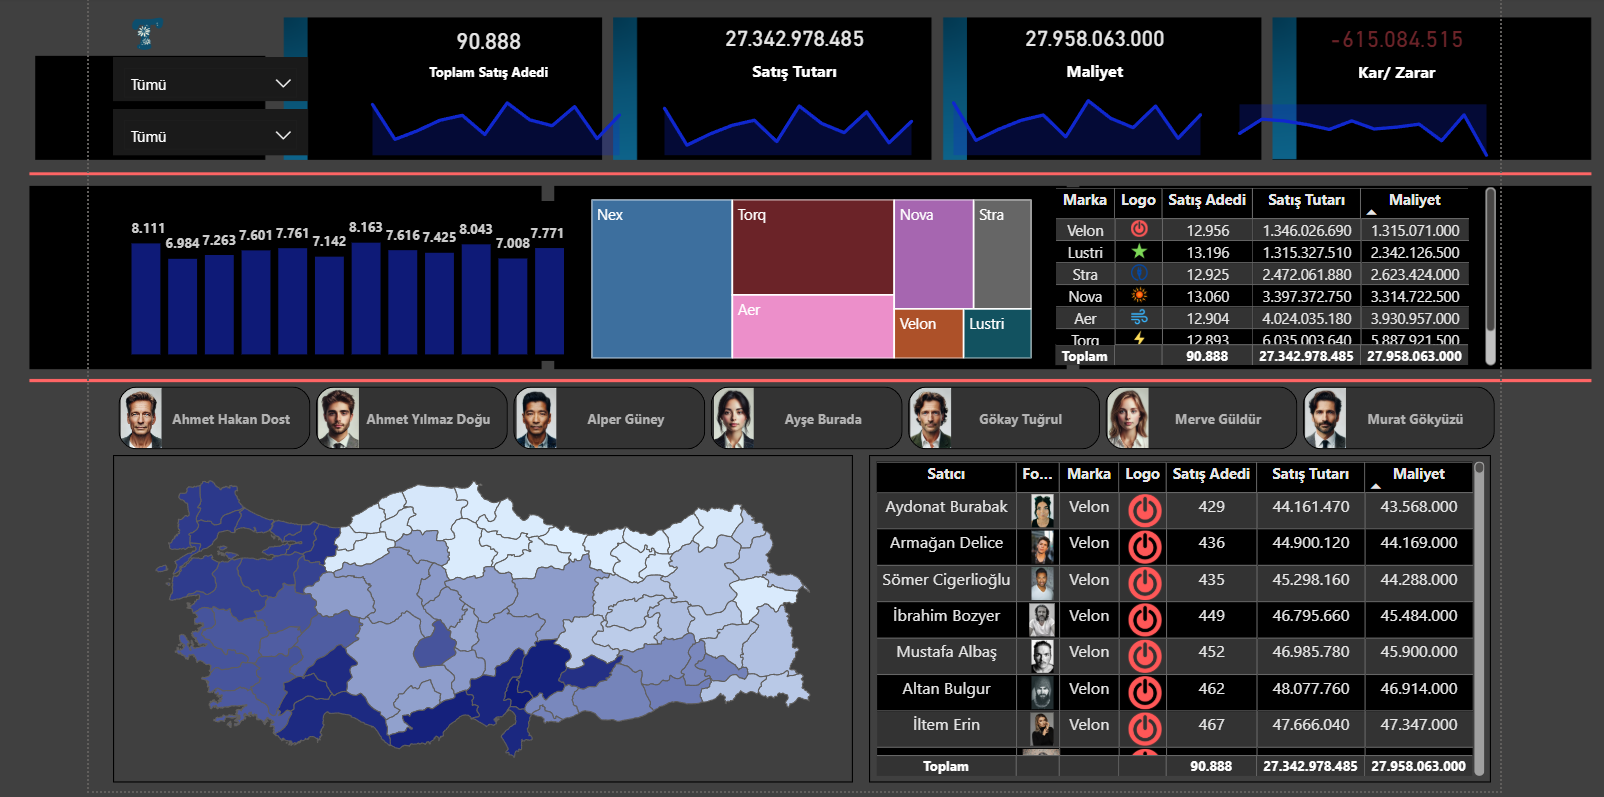

The page's visual inventory and layout, read from the dashboard file:
{"tool":"powerbi","page":{"name":"1. sayfa","canvas":[1280,720],"ordinal":0},"visuals":[{"type":"slicer","fields":{"Values":["Tarih_Tablosu.Date.Varyasyon.Tarih Hiyerarşisi.Yıl","Tarih_Tablosu.Date.Varyasyon.Tarih Hiyerarşisi.Çeyrek","Tarih_Tablosu.Date.Varyasyon.Tarih Hiyerarşisi.Ay","Tarih_Tablosu.Date.Varyasyon.Tarih Hiyerarşisi.Gün"]},"box":[21.8,54.4,176.8,39.9],"z":0},{"type":"slicer","fields":{"Values":["urunler.marka"]},"box":[21.8,101.6,176.8,41.7],"z":1000},{"type":"cardVisual","fields":{"Data":["Olculer.Toplam_Satis_Adedi"]},"box":[268.4,8.2,188.6,86.1],"z":2000},{"type":"cardVisual","fields":{"Data":["Olculer.Toplam_Satis_Tutar"]},"box":[545.9,8.2,188.6,86.1],"z":3000},{"type":"cardVisual","fields":{"Data":["Olculer.Kar/zarar"]},"box":[1091.8,8.2,188.6,86.1],"z":4000},{"type":"cardVisual","fields":{"Data":["Olculer.Toplam_Maliyet"]},"box":[817.9,8.2,188.6,86.1],"z":5000},{"type":"lineChart","fields":{"Category":["Tarih_Tablosu.Date.Varyasyon.Tarih Hiyerarşisi.Ay"],"Y":["Olculer.Toplam_Satis_Adedi"]},"box":[243.9,72.5,250.3,76.2],"z":6000},{"type":"lineChart","fields":{"Category":["Tarih_Tablosu.Date.Varyasyon.Tarih Hiyerarşisi.Ay"],"Y":["Olculer.Toplam_Satis_Tutar"]},"box":[508.7,73.5,250.3,75.3],"z":7000},{"type":"lineChart","fields":{"Category":["Tarih_Tablosu.Date.Varyasyon.Tarih Hiyerarşisi.Ay"],"Y":["Olculer.Toplam_Maliyet"]},"box":[770.8,73.5,250.3,75.3],"z":8000},{"type":"lineChart","fields":{"Category":["Tarih_Tablosu.Date.Varyasyon.Tarih Hiyerarşisi.Ay"],"Y":["Olculer.Kar/zarar"]},"box":[1030.1,84.3,250.3,75.3],"z":9000},{"type":"columnChart","fields":{"Category":["Tarih_Tablosu.Date.Varyasyon.Tarih Hiyerarşisi.Ay"],"Y":["Olculer.Toplam_Satis_Adedi"]},"box":[33.6,185,402.6,145.1],"z":10000},{"type":"treemap","fields":{"Group":["urunler.marka"],"Values":["Olculer.Toplam_Satis_Tutar"]},"box":[450.7,178.6,409,154.2],"z":11000},{"type":"tableEx","fields":{"Values":["urunler.marka","urunler.logo","Olculer.Toplam_Satis_Adedi","Olculer.Toplam_Satis_Tutar","Olculer.Toplam_Maliyet"]},"box":[870.5,167.8,409.9,171.4],"z":12000},{"type":"advancedSlicerVisual","fields":{"Values":["yoneticiler.yonetici"]},"box":[21.8,348.2,1258.6,67.1],"z":13000},{"type":"shapeMap","fields":{"Value":["Olculer.Toplam_Satis_Adedi"],"Category":["bolgeler.Merkez"]},"box":[21.8,415.3,671,297.4],"z":14000},{"type":"tableEx","fields":{"Values":["urunler.marka","urunler.logo","Olculer.Toplam_Satis_Adedi","Olculer.Toplam_Satis_Tutar","Olculer.Toplam_Maliyet"]},"box":[870.1,167.8,409.9,171.4],"z":15000},{"type":"tableEx","fields":{"Values":["saticilar.satici","saticilar.foto","urunler.marka","urunler.logo","Olculer.Toplam_Satis_Adedi","Olculer.Toplam_Satis_Tutar","Olculer.Toplam_Maliyet"]},"box":[707.3,415.3,564,297.4],"z":16000}]}

Visuals, with their boxes on the page's 1280x720 design canvas (x1, y1, x2, y2). These are canvas units, not pixel positions in the 1604x797 screenshot, which may show the page scaled, cropped or inside an application window:
slicer - Tarih_Tablosu.Date.Varyasyon.Tarih Hiyerarşisi.Yıl x Tarih_Tablosu.Date.Varyasyon.Tarih Hiyerarşisi.Çeyrek: x1=22, y1=54, x2=199, y2=94
slicer - urunler.marka: x1=22, y1=102, x2=199, y2=143
cardVisual - Olculer.Toplam_Satis_Adedi: x1=268, y1=8, x2=457, y2=94
cardVisual - Olculer.Toplam_Satis_Tutar: x1=546, y1=8, x2=734, y2=94
cardVisual - Olculer.Kar/zarar: x1=1092, y1=8, x2=1280, y2=94
cardVisual - Olculer.Toplam_Maliyet: x1=818, y1=8, x2=1006, y2=94
lineChart - Tarih_Tablosu.Date.Varyasyon.Tarih Hiyerarşisi.Ay x Olculer.Toplam_Satis_Adedi: x1=244, y1=72, x2=494, y2=149
lineChart - Tarih_Tablosu.Date.Varyasyon.Tarih Hiyerarşisi.Ay x Olculer.Toplam_Satis_Tutar: x1=509, y1=74, x2=759, y2=149
lineChart - Tarih_Tablosu.Date.Varyasyon.Tarih Hiyerarşisi.Ay x Olculer.Toplam_Maliyet: x1=771, y1=74, x2=1021, y2=149
lineChart - Tarih_Tablosu.Date.Varyasyon.Tarih Hiyerarşisi.Ay x Olculer.Kar/zarar: x1=1030, y1=84, x2=1280, y2=160
columnChart - Tarih_Tablosu.Date.Varyasyon.Tarih Hiyerarşisi.Ay x Olculer.Toplam_Satis_Adedi: x1=34, y1=185, x2=436, y2=330
treemap - urunler.marka x Olculer.Toplam_Satis_Tutar: x1=451, y1=179, x2=860, y2=333
tableEx - urunler.marka x urunler.logo: x1=870, y1=168, x2=1280, y2=339
advancedSlicerVisual - yoneticiler.yonetici: x1=22, y1=348, x2=1280, y2=415
shapeMap - Olculer.Toplam_Satis_Adedi x bolgeler.Merkez: x1=22, y1=415, x2=693, y2=713
tableEx - urunler.marka x urunler.logo: x1=870, y1=168, x2=1280, y2=339
tableEx - saticilar.satici x saticilar.foto: x1=707, y1=415, x2=1271, y2=713
